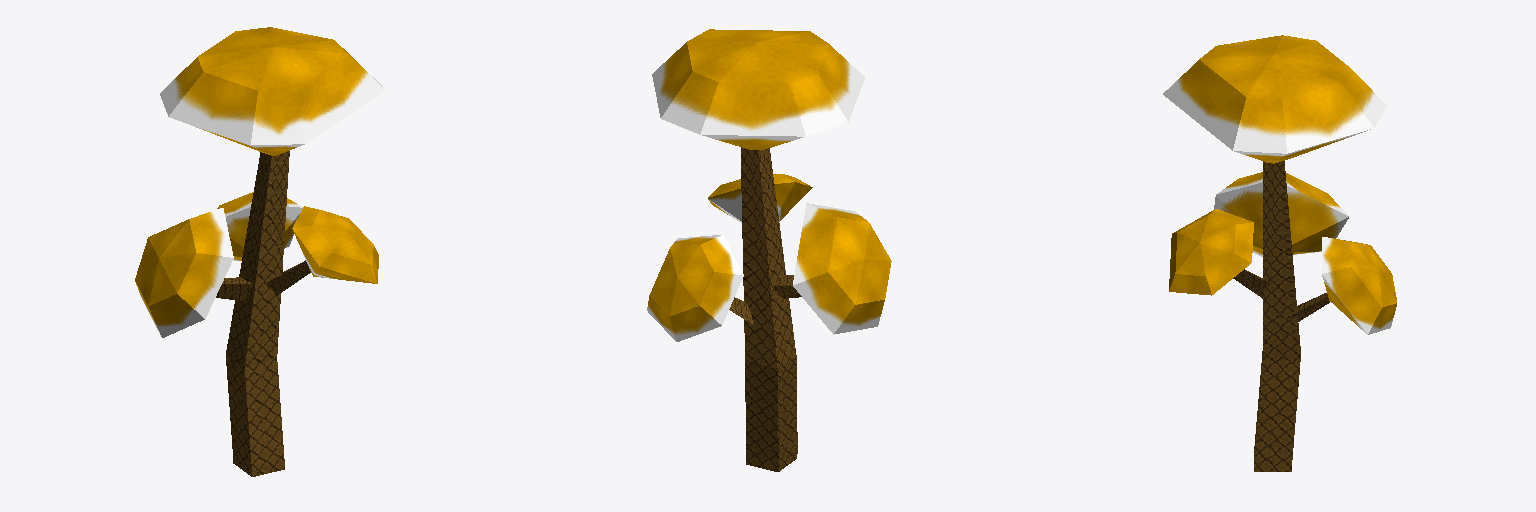
3 views of the same model, side by side, from view 1: azimuth 30°, elevation 25°; view 2: azimuth 150°, elevation 25°; view 3: azimuth 270°, elevation 25° (orthographic).
Parts seen in each view (by area): view 1: tree2_2mesh_tree1mesh_tree1poly; view 2: tree2_2mesh_tree1mesh_tree1poly; view 3: tree2_2mesh_tree1mesh_tree1poly.
Boxes of the visible parts, <box> form: tree2_2mesh_tree1mesh_tree1poly: <box>135,27,385,476</box>; tree2_2mesh_tree1mesh_tree1poly: <box>647,29,891,471</box>; tree2_2mesh_tree1mesh_tree1poly: <box>1163,35,1396,471</box>.
Bounding box in the file's own units: 2.16 × 3.82 × 1.96.
1 materials, 1 textured.